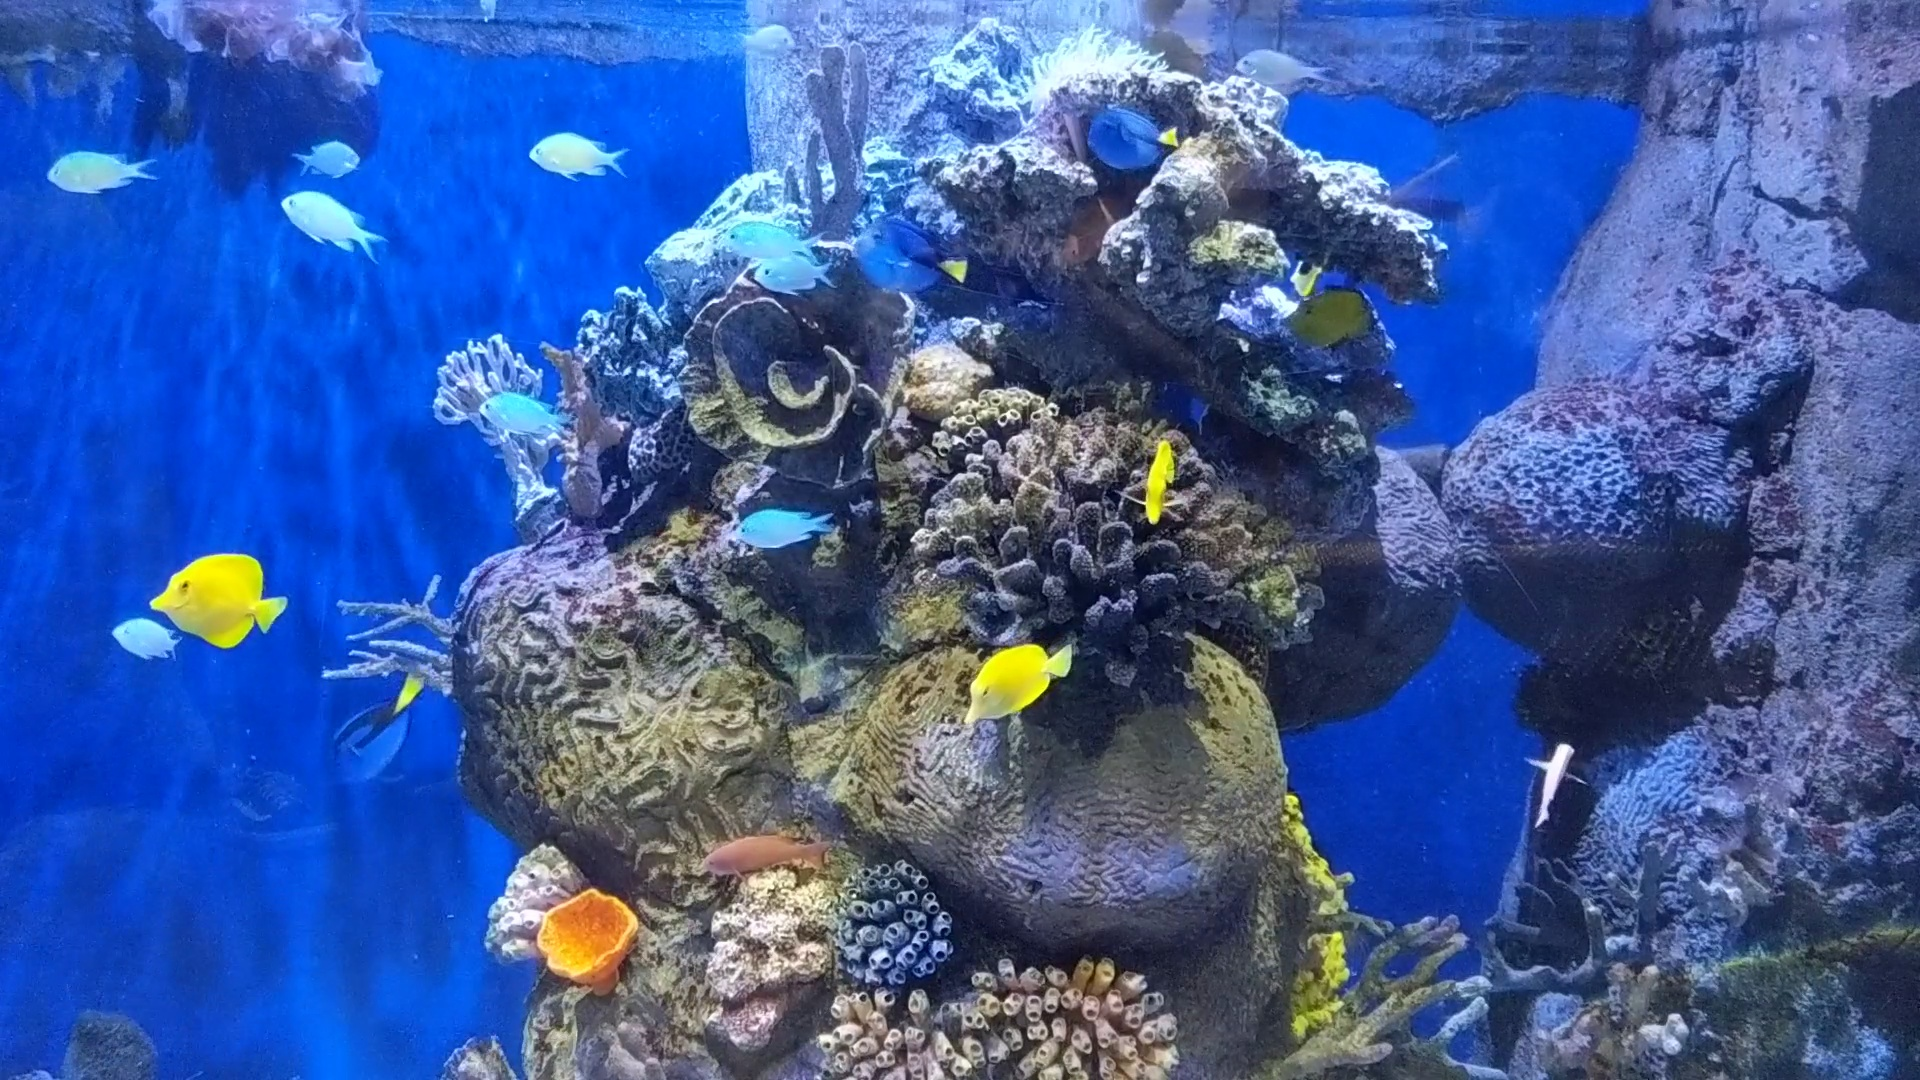blue tang surgeonfish: (320, 654, 438, 798), (841, 208, 977, 302), (1067, 95, 1191, 169)
damselfish: (468, 371, 584, 454), (282, 177, 384, 261), (37, 137, 160, 204), (721, 492, 847, 554), (522, 119, 630, 187), (703, 208, 823, 265), (1236, 36, 1340, 99), (111, 607, 185, 669), (749, 249, 835, 298), (286, 123, 368, 173)
pink fish: (1510, 709, 1586, 831)
saddle butterfly fish: (133, 538, 295, 654), (939, 630, 1085, 742), (1265, 276, 1385, 360), (1121, 429, 1185, 531)
